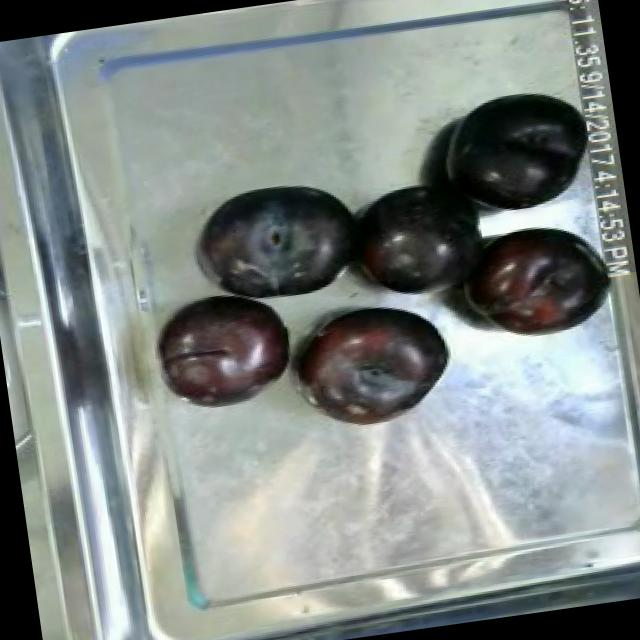Fruit: (276, 286, 467, 441), (182, 165, 376, 313), (427, 79, 602, 228), (446, 208, 616, 356), (336, 166, 502, 313), (144, 278, 306, 421)
